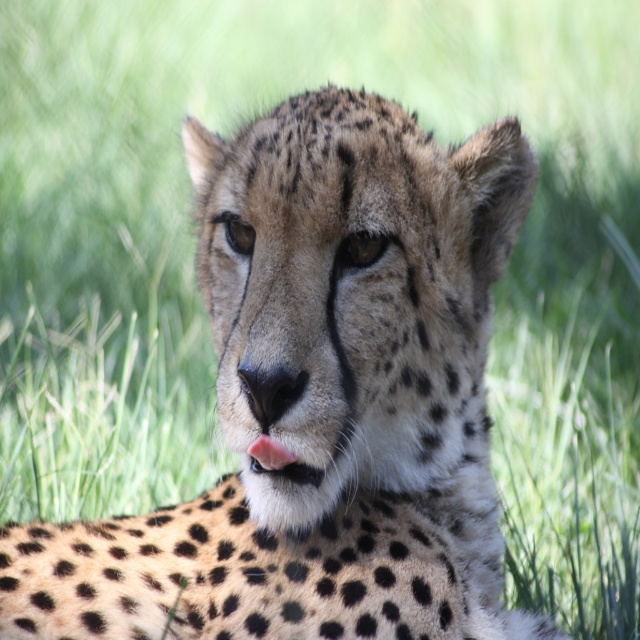Cheetah: (0, 77, 569, 639)
